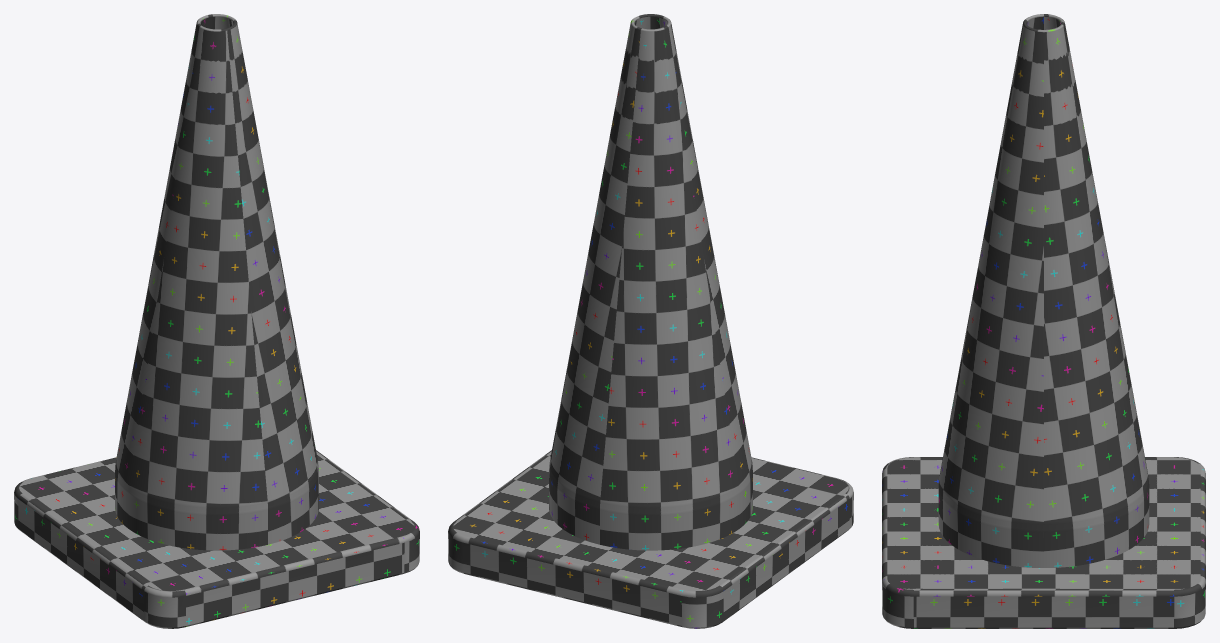
Rendered from traffic-cone.glb.
3 views of the same model, side by side, from view 1: azimuth 30°, elevation 25°; view 2: azimuth 150°, elevation 25°; view 3: azimuth 270°, elevation 25° (orthographic). The views are drawn at different scales.
Parts seen in each view (by area): view 1: traffic-cone; view 2: traffic-cone; view 3: traffic-cone.
Part boxes in pixels (<box>): traffic-cone: <box>14,14,419,628</box>; traffic-cone: <box>448,14,853,628</box>; traffic-cone: <box>882,14,1205,628</box>.
Bounding box in the file's own units: 0.38 × 0.6994 × 0.38.
Materials: 1 (1 with a texture image).
